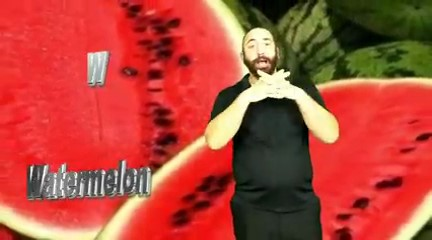W: (239, 63, 306, 109)
